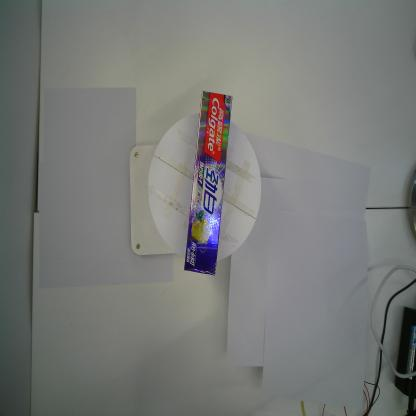Personal Hygiene: (184, 90, 233, 277)
